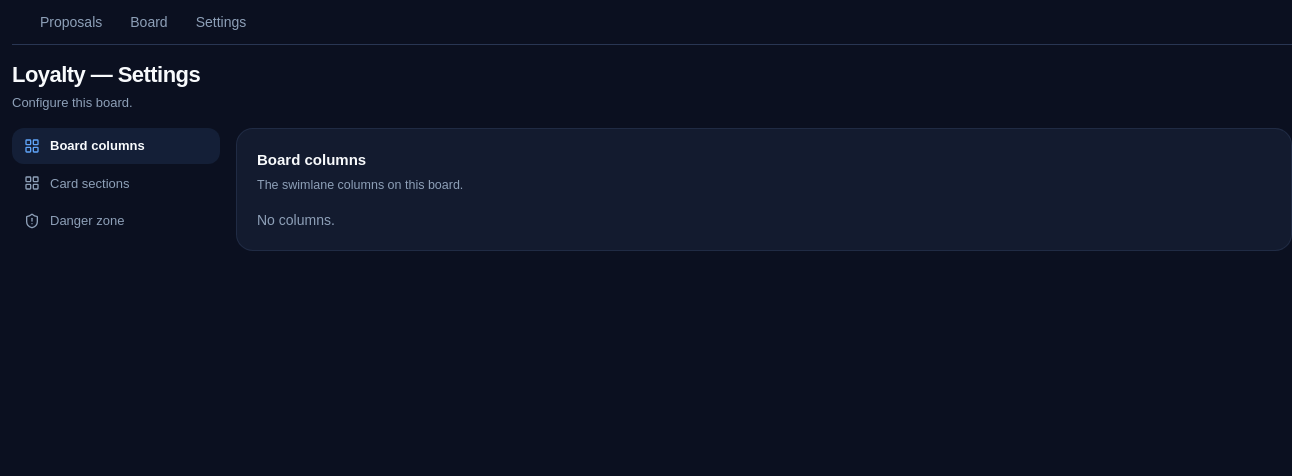
Test: ProjectSettingsPage card sections › renders built-ins locked without edit/delete buttons
What coordinates should you click on to do the following:
click the button "Card sections"
I would click on:
 (116, 183)
Its box is [12,166,220,201].
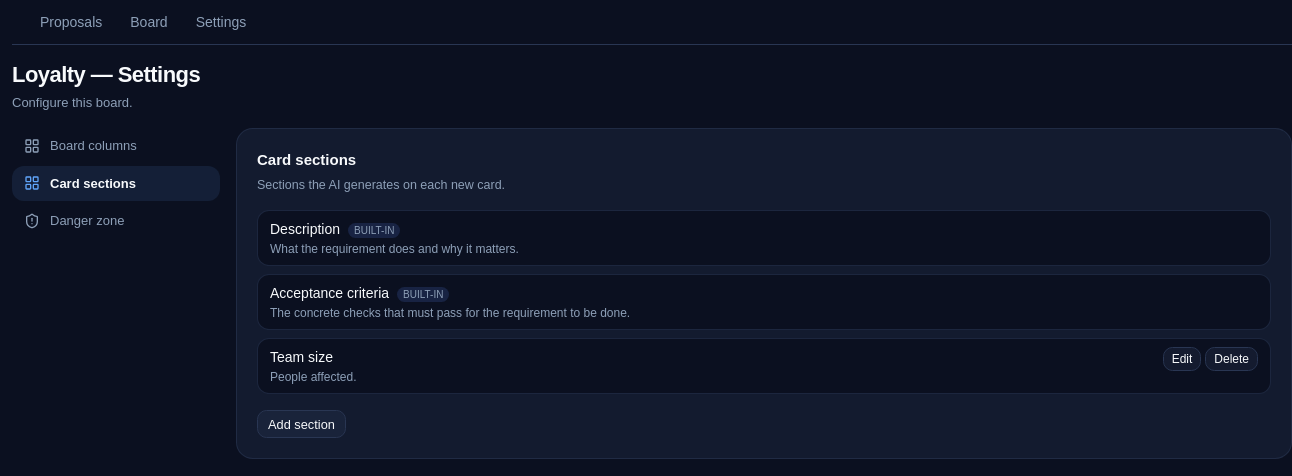
Result: the text "built-in" is shown 2 times at [348,223,400,238]; [397,287,450,302]
Result: the text "Team size" is shown at [270,349,333,365]
